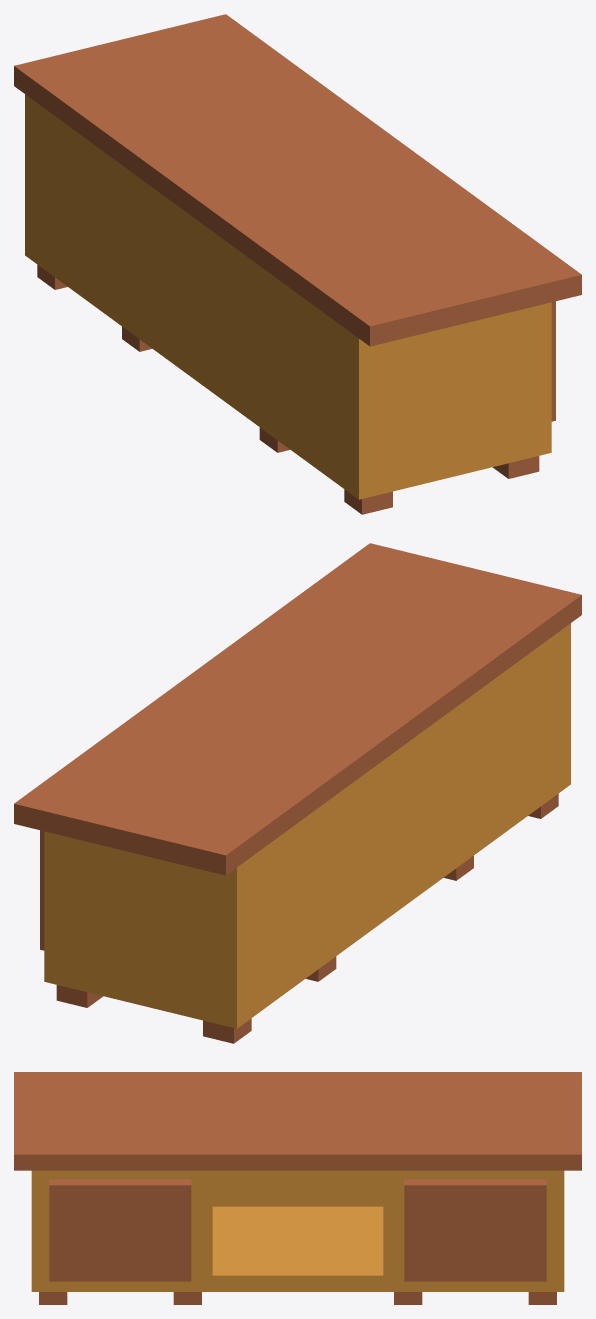
Rendered from cabinet_l2.fbx.
3 renders of one model, top to bottom at view 1: azimuth 30°, elevation 25°; view 2: azimuth 150°, elevation 25°; view 3: azimuth 270°, elevation 25°, orthographic. The views are drawn at different scales.
Parts seen in each view (by area): view 1: Cube.016; view 2: Cube.016; view 3: Cube.016.
Boxes of the visible parts, left/top/right/bottom form: Cube.016: left=14, top=14, right=581, bottom=514; Cube.016: left=14, top=543, right=581, bottom=1043; Cube.016: left=14, top=1072, right=581, bottom=1304.
Bounding box in the file's own units: 55 × 50 × 160.
